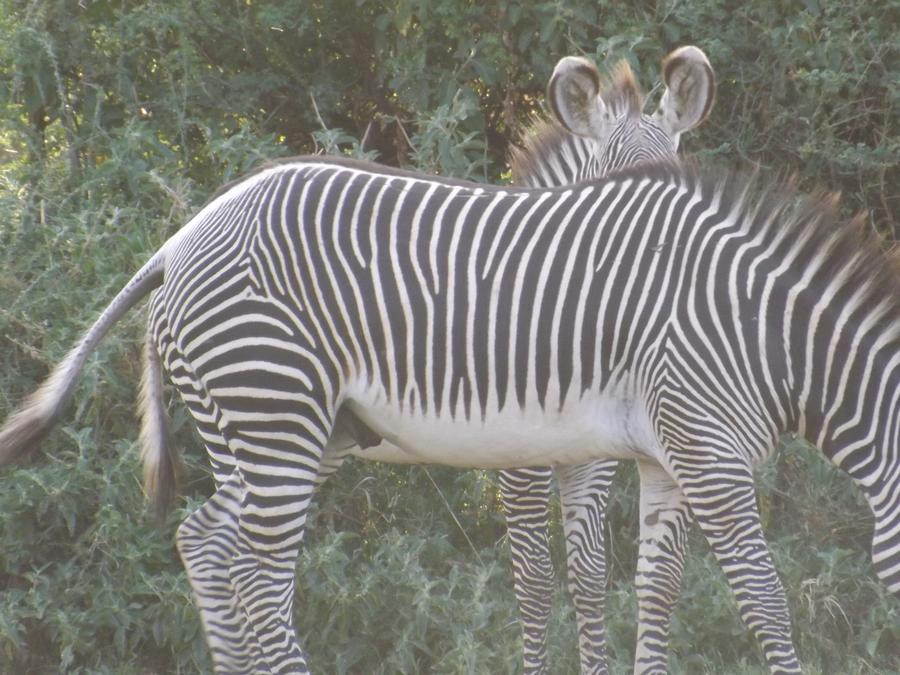zebra_grevys: (163, 130, 762, 476)
